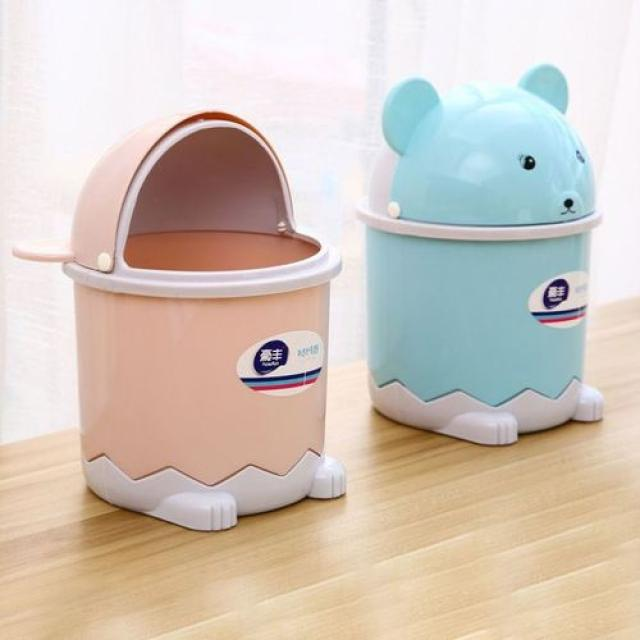dustbin: (15, 98, 350, 538), (353, 49, 616, 454)
